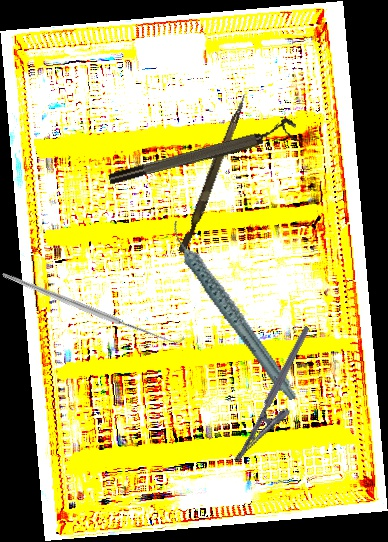Fixation Ring: (105, 116, 300, 188)
Handpiece: (168, 203, 299, 418)
Hook Surgical: (1, 209, 186, 404)
Needle Holder: (232, 325, 330, 473)
Pusher: (178, 91, 248, 255)
